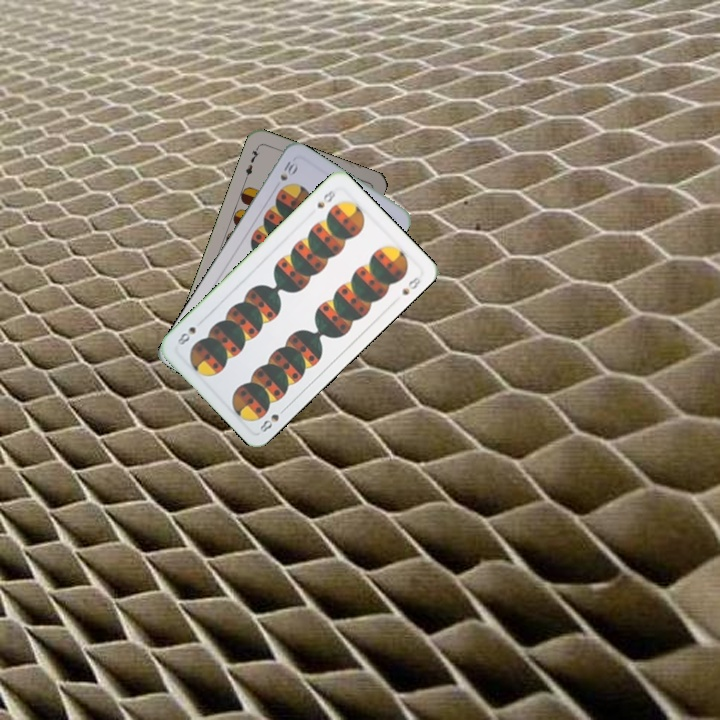E7: (241, 143, 262, 182)
S10: (276, 155, 299, 184)
S8: (255, 403, 289, 435), (313, 186, 338, 211)
